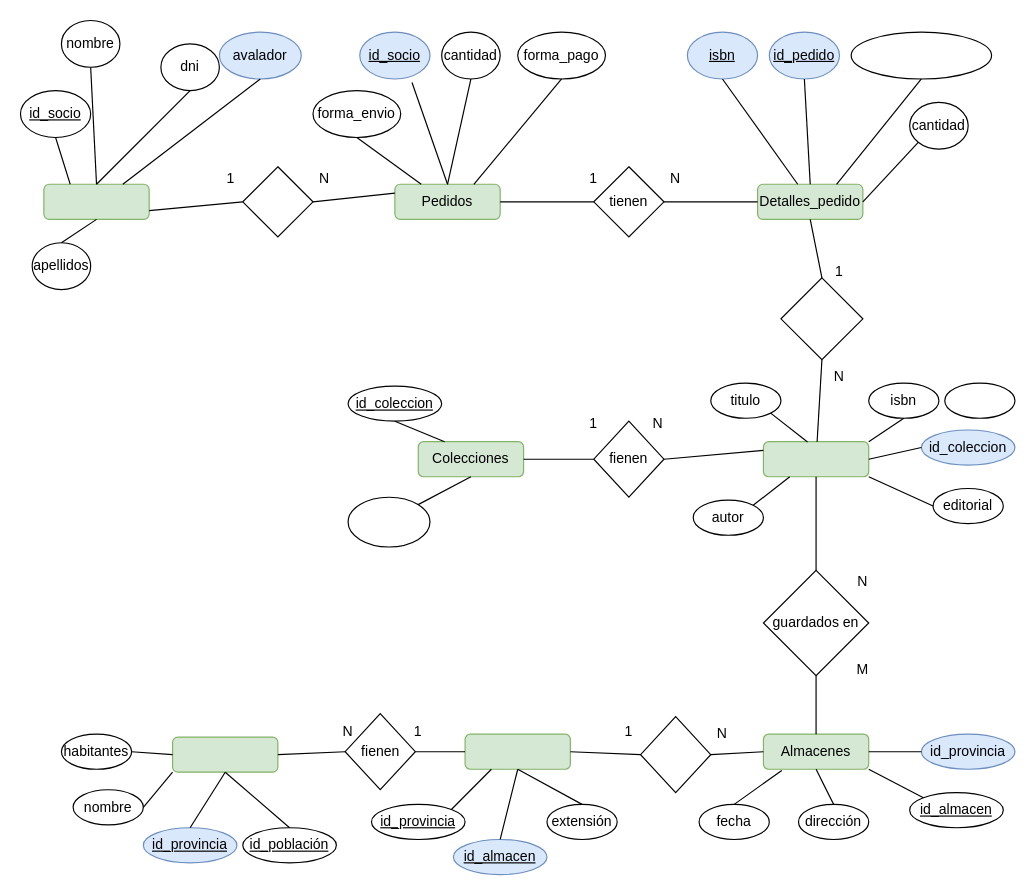
This 1035x895 diagram has some shape labels left out. Here are the shapes that lost their labels. From the top down, the centre of each, then its label:
At point 921,55: "id_detalles_pedido".
At point 96,201: "Socio".
At point 277,201: "hace".
At point 821,318: "contienen".
At point 979,400: "id_libro".
At point 815,459: "Libros".
At point 388,521: "volumenes".
At point 224,754: "Población".
At point 517,751: "Provincias".
At point 675,754: "se ubican".
